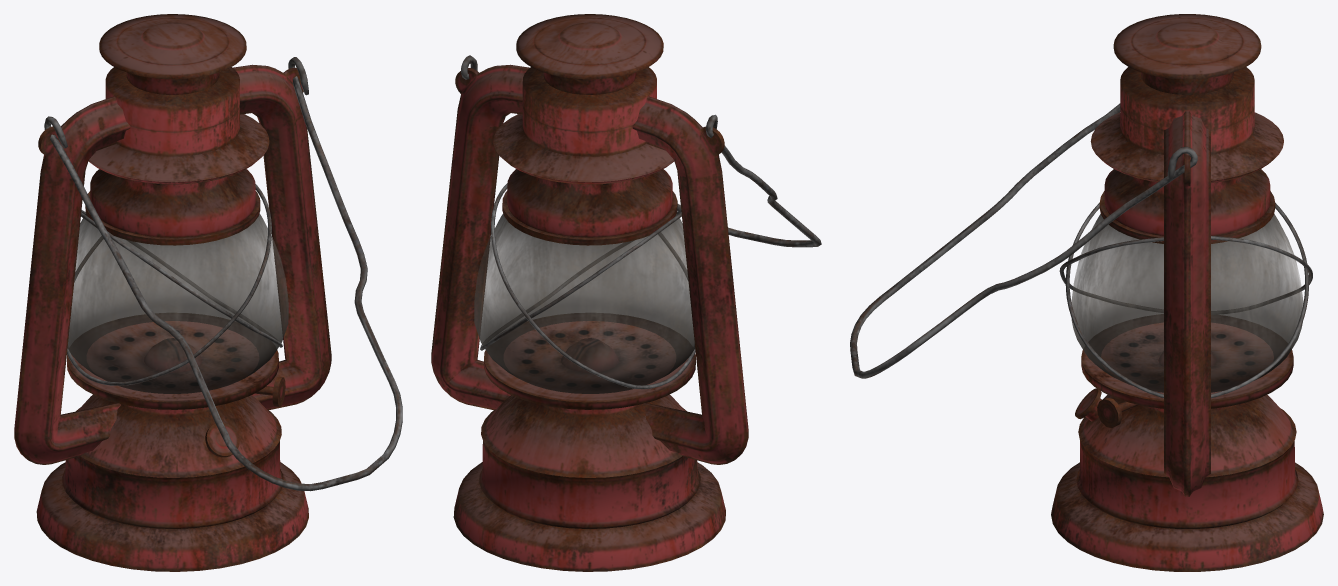
Rendered from rusty_old_oil_lantern.glb.
3 views of the same model, side by side, from view 1: azimuth 30°, elevation 25°; view 2: azimuth 150°, elevation 25°; view 3: azimuth 270°, elevation 25° (orthographic).
Parts seen in each view (by area): view 1: Cylinder.005; view 2: Cylinder.005; view 3: Cylinder.005.
Part boxes in pixels (x1=…): Cylinder.005: x1=14, y1=14, x2=402, y2=571; Cylinder.005: x1=431, y1=14, x2=821, y2=571; Cylinder.005: x1=850, y1=14, x2=1323, y2=571.
Bounding box in the file's own units: 21.77 × 31.69 × 28.31.
1 material, 1 textured.
